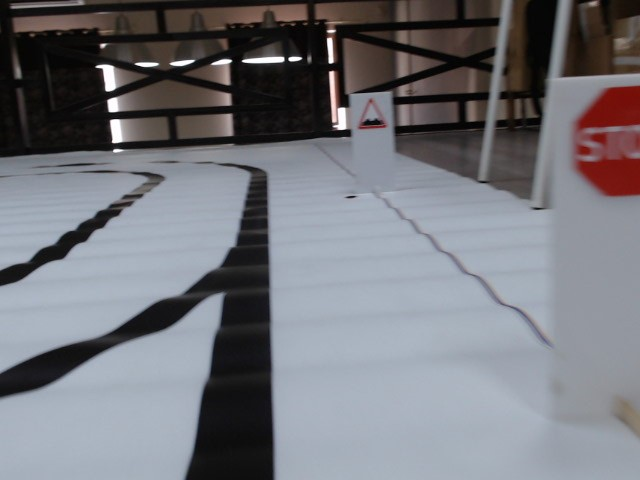Nerov: (355, 98, 389, 130)
